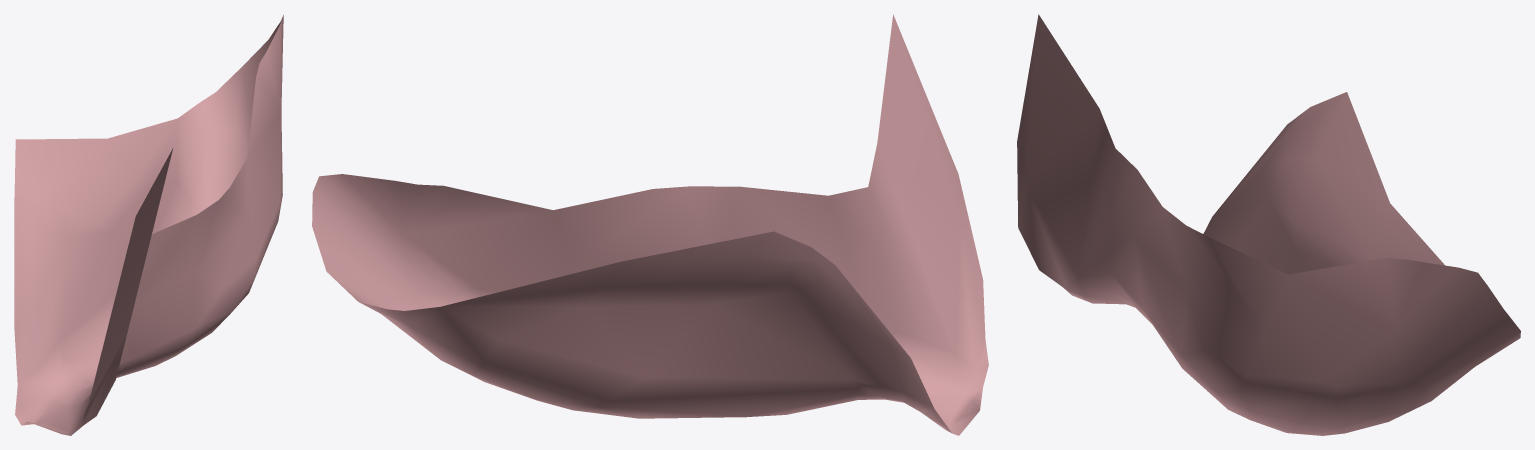
3 renders of one model, left to right at view 1: azimuth 30°, elevation 25°; view 2: azimuth 150°, elevation 25°; view 3: azimuth 270°, elevation 25°, orthographic. The views are drawn at different scales.
Parts seen in each view (by area): view 1: ZA_638aca436b8e57e8; view 2: ZA_638aca436b8e57e8; view 3: ZA_638aca436b8e57e8.
Boxes of the visible parts, left/top/right/bottom form: ZA_638aca436b8e57e8: left=14, top=15, right=283, bottom=435; ZA_638aca436b8e57e8: left=312, top=14, right=988, bottom=435; ZA_638aca436b8e57e8: left=1017, top=14, right=1520, bottom=435.
Size of the model in its own units: 0.0235 by 0.0161 by 0.0211.
